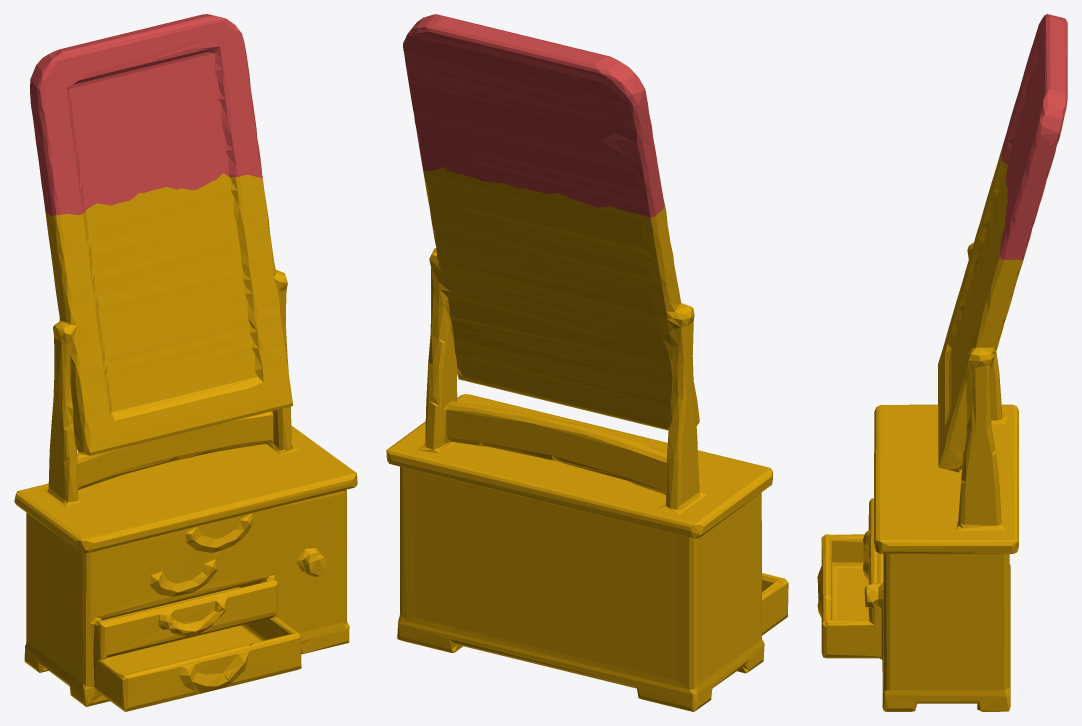
The model's file is fractured_45_2pcs.glb.
The picture shows the model from 3 angles, left to right: view 1: azimuth 30°, elevation 25°; view 2: azimuth 150°, elevation 25°; view 3: azimuth 270°, elevation 25°; orthographic projection. The views are drawn at different scales.
Visible parts, largest first — view 1: piece_0.obj, piece_1.obj; view 2: piece_0.obj, piece_1.obj; view 3: piece_0.obj, piece_1.obj.
Part boxes in pixels (bbox=[...]): piece_0.obj: bbox=[14, 173, 357, 711]; piece_1.obj: bbox=[30, 14, 262, 215]; piece_0.obj: bbox=[386, 167, 788, 711]; piece_1.obj: bbox=[403, 14, 664, 217]; piece_0.obj: bbox=[817, 146, 1023, 711]; piece_1.obj: bbox=[999, 14, 1067, 260].
Bounding box in the file's own units: 0.502 × 1 × 0.3814.
